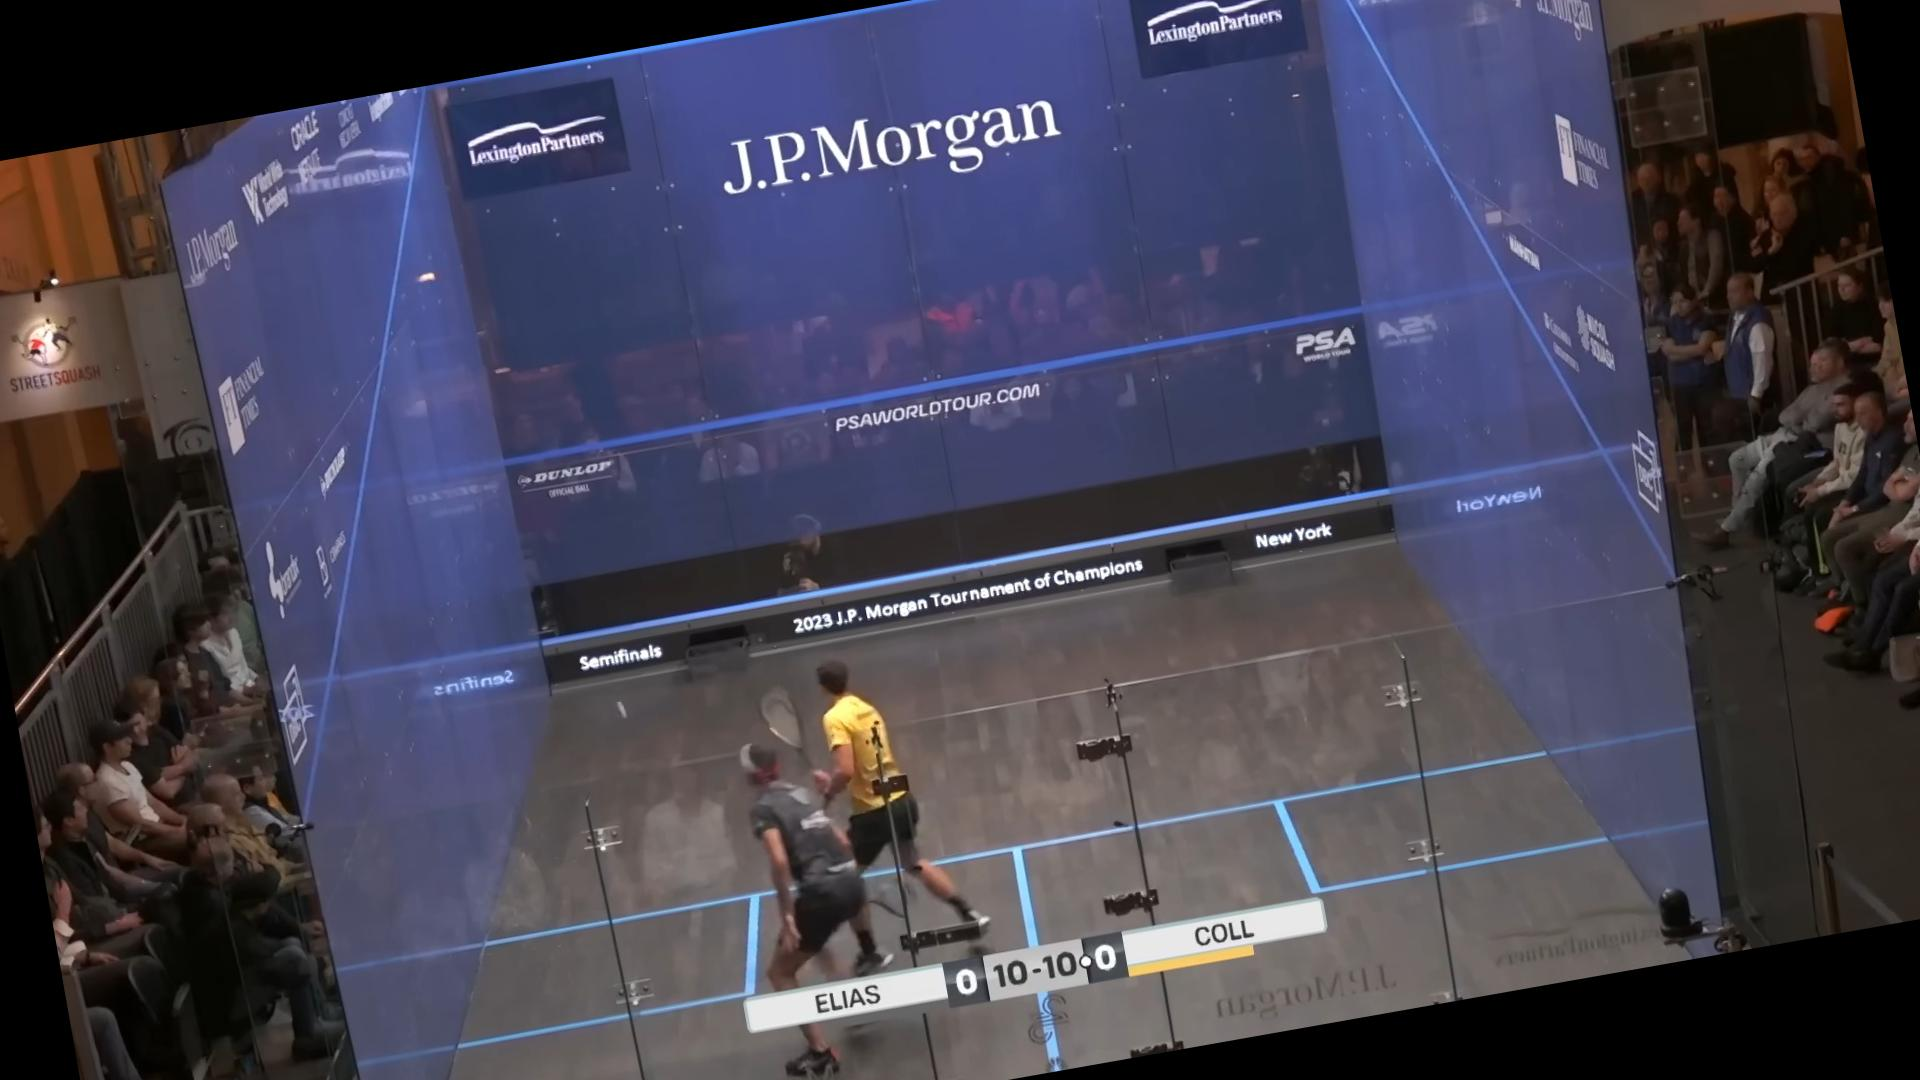Racket: (745, 667, 822, 770), (864, 869, 928, 927)
